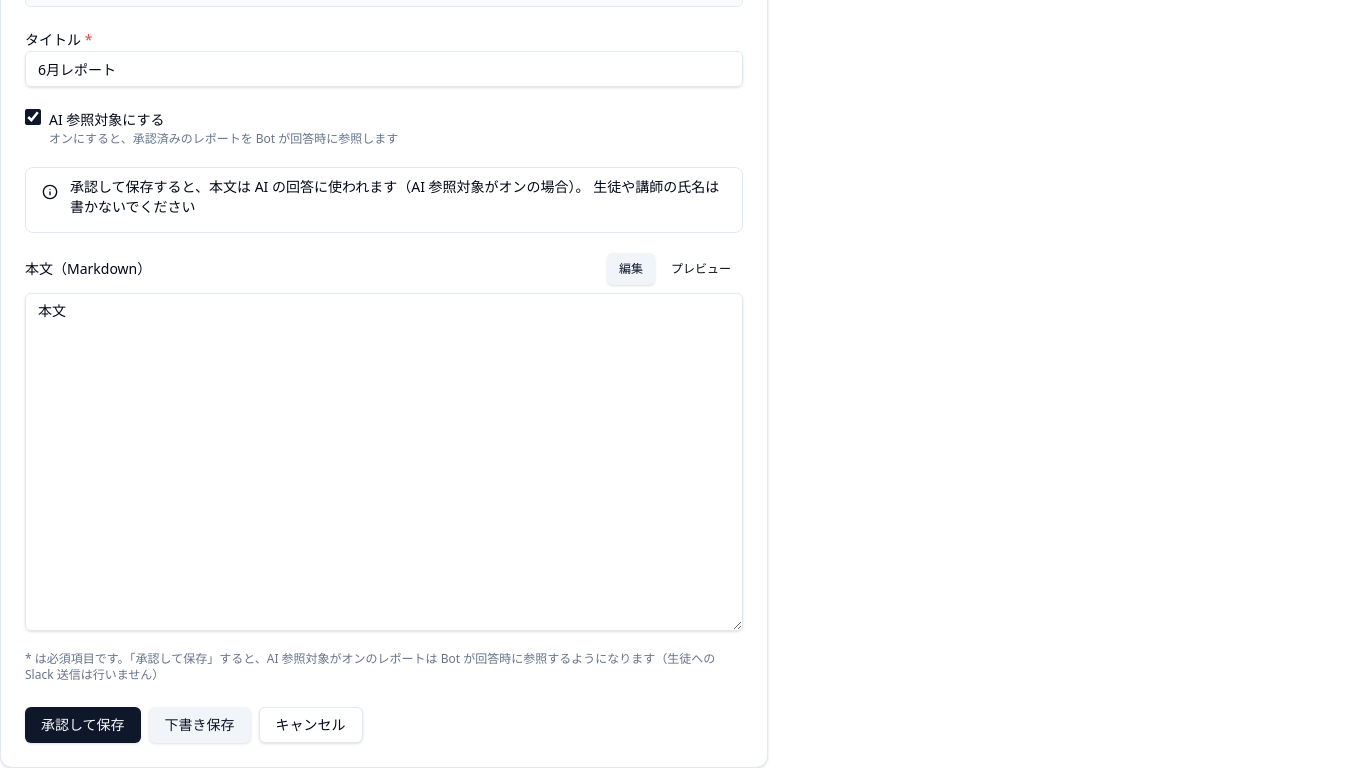
ReportForm（H-9: 二重送信防止） › 保存成功後は submit ボタンが無効のままになる
(page scrolled)
What coordinates should you click on to do the following:
click the button "下書き保存"
I would click on:
 (200, 725)
Its box is top-left (149, 707), bottom-right (251, 743).
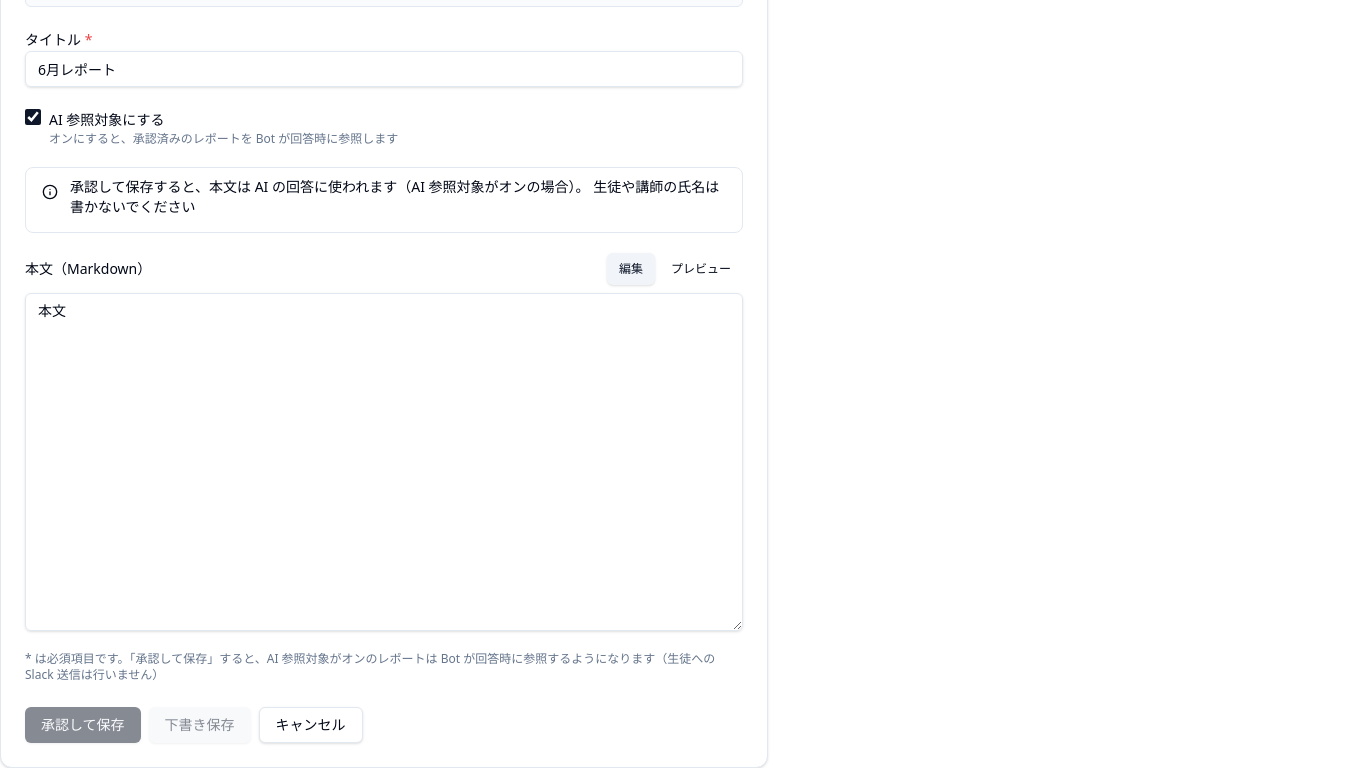
Check: the button "承認して保存" is disabled, box top-left (25, 707), bottom-right (141, 743)
Check: the button "下書き保存" is disabled, box top-left (149, 707), bottom-right (251, 743)
